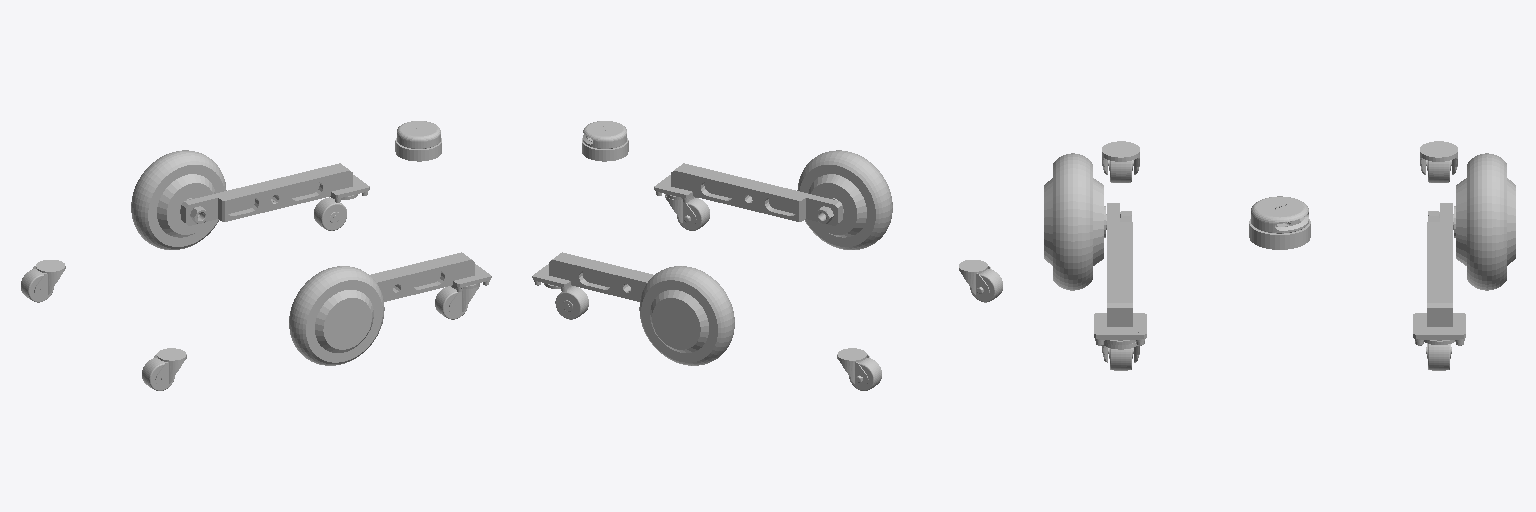
--- Facts derived from the render (not from the file) ---
3 views of the same robot in one strip: view 1: azimuth 30°, elevation 25°; view 2: azimuth 150°, elevation 25°; view 3: azimuth 270°, elevation 25° (orthographic).
Robot: aragorn — 30 links, 29 joints (12 continuous, 17 fixed); root link base_footprint; default pose: all joints at 0.
Links seen in each view (by area): view 1: right_wheel_link, left_wheel_link, left_swing_arm_link, right_swing_arm_link, front_lidar_mount_point_link, left_front_caster_wheel_link, right_rear_caster_arm_link, left_rear_caster_arm_link; view 2: left_wheel_link, right_wheel_link, right_swing_arm_link, left_swing_arm_link, front_lidar_mount_point_link, left_front_caster_wheel_link, left_rear_caster_arm_link, right_rear_caster_arm_link; view 3: right_wheel_link, left_wheel_link, left_swing_arm_link, right_swing_arm_link, front_lidar_mount_point_link, left_rear_caster_arm_link, right_rear_caster_arm_link, left_front_caster_wheel_link.
Link boxes in pixels (x1,y1,x2,y2): right_wheel_link: (289,266,384,365); left_wheel_link: (131,150,226,249); left_swing_arm_link: (181,163,369,225); right_swing_arm_link: (370,252,491,301); front_lidar_mount_point_link: (395,121,441,161); left_front_caster_wheel_link: (314,197,346,230); right_rear_caster_arm_link: (154,348,186,386); left_rear_caster_arm_link: (32,260,65,297); left_wheel_link: (639,266,734,365); right_wheel_link: (797,150,892,249); right_swing_arm_link: (654,163,842,225); left_swing_arm_link: (532,252,653,301); front_lidar_mount_point_link: (582,121,628,161); left_front_caster_wheel_link: (555,286,588,319); left_rear_caster_arm_link: (837,348,869,386); right_rear_caster_arm_link: (959,260,991,297); right_wheel_link: (1044,153,1106,290); left_wheel_link: (1453,153,1515,290); left_swing_arm_link: (1413,203,1465,345); right_swing_arm_link: (1094,203,1146,345); front_lidar_mount_point_link: (1249,196,1310,249); left_rear_caster_arm_link: (1420,141,1457,174); right_rear_caster_arm_link: (1102,141,1139,174); left_front_caster_wheel_link: (1426,343,1451,370).
Size in the robot's own frame: 0.664 by 0.5824 by 0.2462 metres.
Meshes: 16 distinct files referenced, 12 mesh visuals loaded (12 binary STL); not drawn: 4 (reference not matched to a file when rendering).

URDF robot description (aragorn):
<?xml version="1.0" encoding="utf-8"?>
<!-- This URDF was automatically created by SolidWorks to URDF Exporter! Originally created by Stephen Brawner ([email redacted]) 
     Commit Version: 1.5.1-0-g916b5db  Build Version: 1.5.7152.31018
     For more information, please see http://wiki.ros.org/sw_urdf_exporter -->
<robot
  name="aragorn">

  <link name="base_footprint"/>
  <joint 
    name="base_footprint_to_base_link"
    type="fixed">
    <origin
      xyz="0 0 0.215"
      rpy="0 0 0" />
    <parent
      link="base_footprint" />
    <child
      link="base_link" />
    <axis
      xyz="0 0 1" />
  </joint> 

  <link
    name="base_link">
    <inertial>
      <origin
        xyz="-0.0403486248167869 -0.00918270719266345 0.316228196862835"
        rpy="0 0 0" />
      <mass
        value="219.993847036208" />
      <inertia
        ixx="41.6754828034538"
        ixy="-0.106413065258627"
        ixz="0.782685250341636"
        iyy="44.078983843434"
        iyz="-0.430942657277407"
        izz="7.63679261790245" />
    </inertial>
    <visual>
      <origin
        xyz="0 0 0"
        rpy="0 0 0" />
      <geometry>
        <mesh
          filename="package://aragorn_description/meshes/base_link.STL" />
      </geometry>
      <material
        name="">
        <color
          rgba="0.752941176470588 0.752941176470588 0.752941176470588 1" />
      </material>
    </visual>
    <collision>
      <origin
        xyz="0 0 0"
        rpy="0 0 0" />
      <geometry>
        <mesh
          filename="package://aragorn_description/meshes/base_link.STL" />
      </geometry>
    </collision>
  </link>
  <link
    name="left_swing_arm_link">
    <inertial>
      <origin
        xyz="0.0252820538711716 0.00177826971235748 -0.00249608151068294"
        rpy="0 0 0" />
      <mass
        value="2.34993446567487" />
      <inertia
        ixx="0.000656645614070494"
        ixy="0.000273388479641494"
        ixz="0.000674668619874366"
        iyy="0.0204702821567476"
        iyz="-4.55577159440825E-06"
        izz="0.0203400621395775" />
    </inertial>
    <visual>
      <origin
        xyz="0 0 0"
        rpy="0 0 0" />
      <geometry>
        <mesh
          filename="package://aragorn_description/meshes/left_swing_arm_link.STL" />
      </geometry>
      <material
        name="">
        <color
          rgba="0.752941176470588 0.752941176470588 0.752941176470588 1" />
      </material>
    </visual>
    <collision>
      <origin
        xyz="0 0 0"
        rpy="0 0 0" />
      <geometry>
        <mesh
          filename="package://aragorn_description/meshes/left_swing_arm_link.STL" />
      </geometry>
    </collision>
  </link>
  <joint
    name="left_swing_arm_joint"
    type="continuous">
    <origin
      xyz="0.136 0.1965 -0.14"
      rpy="0 0 0" />
    <parent
      link="base_link" />
    <child
      link="left_swing_arm_link" />
    <axis
      xyz="0 -1 0" />
  </joint>
  <link
    name="left_front_caster_arm_link">
    <inertial>
      <origin
        xyz="-0.0101764304807791 0.00103684809935464 -0.0266675630329053"
        rpy="0 0 0" />
      <mass
        value="0.0777788083339595" />
      <inertia
        ixx="3.52149915361053E-05"
        ixy="1.19534124059409E-06"
        ixz="-1.11237681502021E-05"
        iyy="3.25584920114246E-05"
        iyz="1.3170154061756E-06"
        izz="3.94012265015794E-05" />
    </inertial>
    <visual>
      <origin
        xyz="0 0 0"
        rpy="0 0 0" />
      <geometry>
        <mesh
          filename="package://aragorn_description/meshes/left_front_caster_arm_link.STL" />
      </geometry>
      <material
        name="">
        <color
          rgba="0.792156862745098 0.792156862745098 0.792156862745098 1" />
      </material>
    </visual>
    <collision>
      <origin
        xyz="0 0 0"
        rpy="0 0 0" />
      <geometry>
        <mesh
          filename="package://aragorn_description/meshes/left_front_caster_arm_link.STL" />
      </geometry>
    </collision>
  </link>
  <joint
    name="left_front_caster_arm_joint"
    type="continuous">
    <origin
      xyz="0.136999999999996 0 -0.0160000000000024"
      rpy="0 0 0" />
    <parent
      link="left_swing_arm_link" />
    <child
      link="left_front_caster_arm_link" />
    <axis
      xyz="0 0 1" />
    <limit
      effort="100000"
      velocity="1000" />
  </joint>
  <link
    name="left_front_caster_wheel_link">
    <inertial>
      <origin
        xyz="-8.17745908210377E-08 -3.33066907387547E-16 1.73472347597681E-17"
        rpy="0 0 0" />
      <mass
        value="0.426543248356679" />
      <inertia
        ixx="9.23799595784937E-05"
        ixy="3.11145489690233E-20"
        ixz="-3.25250886123016E-20"
        iyy="0.00012870095566462"
        iyz="-1.2548365939659E-10"
        izz="9.23855105540948E-05" />
    </inertial>
    <visual>
      <origin
        xyz="0 0 0"
        rpy="0 0 0" />
      <geometry>
        <mesh
          filename="package://aragorn_description/meshes/left_front_caster_wheel_link.STL" />
      </geometry>
      <material
        name="">
        <color
          rgba="0.792156862745098 0.792156862745098 0.792156862745098 1" />
      </material>
    </visual>
    <collision>
      <origin
        xyz="0 0 0"
        rpy="0 0 0" />
      <geometry>
        <mesh
          filename="package://aragorn_description/meshes/left_front_caster_wheel_link.STL" />
      </geometry>
    </collision>
  </link>
  <joint
    name="left_front_caster_wheel_joint"
    type="continuous">
    <origin
      xyz="-0.0249999999999989 0 -0.0429999999999974"
      rpy="0 0 0" />
    <parent
      link="left_front_caster_arm_link" />
    <child
      link="left_front_caster_wheel_link" />
    <axis
      xyz="0 -1 0" />
  </joint>
  <link
    name="left_wheel_link">
    <inertial>
      <origin
        xyz="-1.73472347597681E-18 -0.000962802918484051 0"
        rpy="0 0 0" />
      <mass
        value="9.55808535243556" />
      <inertia
        ixx="0.0172238206025619"
        ixy="-3.98159536913938E-19"
        ixz="-1.35063020093918E-18"
        iyy="0.0285095245192058"
        iyz="3.33100181770154E-20"
        izz="0.0172238206025619" />
    </inertial>
    <visual>
      <origin
        xyz="0 0 0"
        rpy="0 0 0" />
      <geometry>
        <mesh
          filename="package://aragorn_description/meshes/left_wheel_link.STL" />
      </geometry>
      <material
        name="">
        <color
          rgba="0.792156862745098 0.792156862745098 0.792156862745098 1" />
      </material>
    </visual>
    <collision>
      <origin
        xyz="0 0 0"
        rpy="0 0 0" />
      <geometry>
        <mesh
          filename="package://aragorn_description/meshes/left_wheel_link.STL" />
      </geometry>
    </collision>
  </link>
  <joint
    name="left_wheel_joint"
    type="continuous">
    <origin
      xyz="-0.137500000000002 0.0596000000000001 0"
      rpy="0 0 0" />
    <parent
      link="left_swing_arm_link" />
    <child
      link="left_wheel_link" />
    <axis
      xyz="0 1 0" />
  </joint>
  <link
    name="left_rear_caster_arm_link">
    <inertial>
      <origin
        xyz="-0.0101764304807791 0.00103684809935445 -0.0266675630329053"
        rpy="0 0 0" />
      <mass
        value="0.0777788083339599" />
      <inertia
        ixx="3.52149915361054E-05"
        ixy="1.19534124059411E-06"
        ixz="-1.11237681502021E-05"
        iyy="3.25584920114245E-05"
        iyz="1.31701540617563E-06"
        izz="3.94012265015795E-05" />
    </inertial>
    <visual>
      <origin
        xyz="0 0 0"
        rpy="0 0 0" />
      <geometry>
        <mesh
          filename="package://aragorn_description/meshes/left_rear_caster_arm_link.STL" />
      </geometry>
      <material
        name="">
        <color
          rgba="0.792156862745098 0.792156862745098 0.792156862745098 1" />
      </material>
    </visual>
    <collision>
      <origin
        xyz="0 0 0"
        rpy="0 0 0" />
      <geometry>
        <mesh
          filename="package://aragorn_description/meshes/left_rear_caster_arm_link.STL" />
      </geometry>
    </collision>
  </link>
  <joint
    name="left_rear_caster_arm_joint"
    type="continuous">
    <origin
      xyz="-0.276 0.1965 -0.156"
      rpy="0 0 0" />
    <parent
      link="base_link" />
    <child
      link="left_rear_caster_arm_link" />
    <axis
      xyz="0 0 1" />
    <limit
      effort="100000"
      velocity="1000" />
  </joint>
  <link
    name="left_rear_caster_wheel_link">
    <inertial>
      <origin
        xyz="8.17745907655265E-08 1.11022302462516E-16 1.04083408558608E-17"
        rpy="0 0 0" />
      <mass
        value="0.426543248356681" />
      <inertia
        ixx="9.237995957848E-05"
        ixy="1.98228295150495E-20"
        ixz="2.46982996889143E-20"
        iyy="0.000128700955664593"
        iyz="1.25483659469682E-10"
        izz="9.23855105540812E-05" />
    </inertial>
    <visual>
      <origin
        xyz="0 0 0"
        rpy="0 0 0" />
      <geometry>
        <mesh
          filename="package://aragorn_description/meshes/left_rear_caster_wheel_link.STL" />
      </geometry>
      <material
        name="">
        <color
          rgba="0.792156862745098 0.792156862745098 0.792156862745098 1" />
      </material>
    </visual>
    <collision>
      <origin
        xyz="0 0 0"
        rpy="0 0 0" />
      <geometry>
        <mesh
          filename="package://aragorn_description/meshes/left_rear_caster_wheel_link.STL" />
      </geometry>
    </collision>
  </link>
  <joint
    name="left_rear_caster_wheel_joint"
    type="continuous">
    <origin
      xyz="-0.025 0 -0.043"
      rpy="0 0 0" />
    <parent
      link="left_rear_caster_arm_link" />
    <child
      link="left_rear_caster_wheel_link" />
    <axis
      xyz="0 1 0" />
  </joint>
  <link
    name="right_swing_arm_link">
    <inertial>
      <origin
        xyz="0.0252577773571477 0.00250575410925884 -0.0332771351931779"
        rpy="0 0 0" />
      <mass
        value="2.3521930746689" />
      <inertia
        ixx="0.00065716338841482"
        ixy="-0.000674093946357969"
        ixz="-0.000273445794447136"
        iyy="0.0203417544787147"
        iyz="-4.58971740988904E-06"
        izz="0.020472002126438" />
    </inertial>
    <visual>
      <origin
        xyz="0 0 0"
        rpy="0 0 0" />
      <geometry>
        <mesh
          filename="package://aragorn_description/meshes/right_swing_arm_link.STL" />
      </geometry>
      <material
        name="">
        <color
          rgba="0.752941176470588 0.752941176470588 0.752941176470588 1" />
      </material>
    </visual>
    <collision>
      <origin
        xyz="0 0 0"
        rpy="0 0 0" />
      <geometry>
        <mesh
          filename="package://aragorn_description/meshes/right_swing_arm_link.STL" />
      </geometry>
    </collision>
  </link>
  <joint
    name="right_swing_arm_joint"
    type="continuous">
    <origin
      xyz="0.135999999999999 -0.164999999999855 -0.14"
      rpy="-1.5707963267949 0 0" />
    <parent
      link="base_link" />
    <child
      link="right_swing_arm_link" />
    <axis
      xyz="0 0 1" />
  </joint>
  <link
    name="right_front_caster_arm_link">
    <inertial>
      <origin
        xyz="-0.0101764304807792 0.00103684809935475 -0.0266675630329053"
        rpy="0 0 0" />
      <mass
        value="0.0777788083339588" />
      <inertia
        ixx="3.52149915361052E-05"
        ixy="1.19534124059405E-06"
        ixz="-1.11237681502021E-05"
        iyy="3.25584920114245E-05"
        iyz="1.31701540617562E-06"
        izz="3.94012265015793E-05" />
    </inertial>
    <visual>
      <origin
        xyz="0 0 0"
        rpy="0 0 0" />
      <geometry>
        <mesh
          filename="package://aragorn_description/meshes/right_front_caster_arm_link.STL" />
      </geometry>
      <material
        name="">
        <color
          rgba="0.792156862745098 0.792156862745098 0.792156862745098 1" />
      </material>
    </visual>
    <collision>
      <origin
        xyz="0 0 0"
        rpy="0 0 0" />
      <geometry>
        <mesh
          filename="package://aragorn_description/meshes/right_front_caster_arm_link.STL" />
      </geometry>
    </collision>
  </link>
  <joint
    name="right_front_caster_arm_joint"
    type="continuous">
    <origin
      xyz="0.137000000000001 0.016 -0.0315000000001454"
      rpy="1.5707963267949 0 0" />
    <parent
      link="right_swing_arm_link" />
    <child
      link="right_front_caster_arm_link" />
    <axis
      xyz="0 0 1" />
    <limit
      effort="100000"
      velocity="1000" />
  </joint>
  <link
    name="right_front_caster_wheel_link">
    <inertial>
      <origin
        xyz="-8.17745907932821E-08 -3.05311331771918E-16 3.46944695195361E-18"
        rpy="0 0 0" />
      <mass
        value="0.42654324835668" />
      <inertia
        ixx="9.2379959578494E-05"
        ixy="2.1637551675201E-20"
        ixz="-2.56171294338236E-20"
        iyy="0.000128700955664621"
        iyz="-1.25483659404144E-10"
        izz="9.23855105540952E-05" />
    </inertial>
    <visual>
      <origin
        xyz="0 0 0"
        rpy="0 0 0" />
      <geometry>
        <mesh
          filename="package://aragorn_description/meshes/right_front_caster_wheel_link.STL" />
      </geometry>
      <material
        name="">
        <color
          rgba="0.792156862745098 0.792156862745098 0.792156862745098 1" />
      </material>
    </visual>
    <collision>
      <origin
        xyz="0 0 0"
        rpy="0 0 0" />
      <geometry>
        <mesh
          filename="package://aragorn_description/meshes/right_front_caster_wheel_link.STL" />
      </geometry>
    </collision>
  </link>
  <joint
    name="right_front_caster_wheel_joint"
    type="continuous">
    <origin
      xyz="-0.0250000000000017 0 -0.0429999999999972"
      rpy="0 0 0" />
    <parent
      link="right_front_caster_arm_link" />
    <child
      link="right_front_caster_wheel_link" />
    <axis
      xyz="0 -1 0" />
  </joint>
  <link
    name="right_wheel_link">
    <inertial>
      <origin
        xyz="-2.38524477946811E-18 0.00096280291848394 -1.38777878078145E-17"
        rpy="0 0 0" />
      <mass
        value="9.55808535243556" />
      <inertia
        ixx="0.0172238206025619"
        ixy="1.58327136905796E-19"
        ixz="3.39376522032136E-19"
        iyy="0.0285095245192058"
        iyz="1.46985395920989E-19"
        izz="0.0172238206025619" />
    </inertial>
    <visual>
      <origin
        xyz="0 0 0"
        rpy="0 0 0" />
      <geometry>
        <mesh
          filename="package://aragorn_description/meshes/right_wheel_link.STL" />
      </geometry>
      <material
        name="">
        <color
          rgba="0.792156862745098 0.792156862745098 0.792156862745098 1" />
      </material>
    </visual>
    <collision>
      <origin
        xyz="0 0 0"
        rpy="0 0 0" />
      <geometry>
        <mesh
          filename="package://aragorn_description/meshes/right_wheel_link.STL" />
      </geometry>
    </collision>
  </link>
  <joint
    name="right_wheel_joint"
    type="continuous">
    <origin
      xyz="-0.1375 0 -0.0911000000001454"
      rpy="1.5707963267949 0 0" />
    <parent
      link="right_swing_arm_link" />
    <child
      link="right_wheel_link" />
    <axis
      xyz="0 1 0" />
  </joint>
  <link
    name="right_rear_caster_arm_link">
    <inertial>
      <origin
        xyz="-0.0101764304807792 0.00103684809935448 -0.0266675630329053"
        rpy="0 0 0" />
      <mass
        value="0.0777788083339599" />
      <inertia
        ixx="3.52149915361053E-05"
        ixy="1.19534124059416E-06"
        ixz="-1.11237681502021E-05"
        iyy="3.25584920114245E-05"
        iyz="1.31701540617562E-06"
        izz="3.94012265015795E-05" />
    </inertial>
    <visual>
      <origin
        xyz="0 0 0"
        rpy="0 0 0" />
      <geometry>
        <mesh
          filename="package://aragorn_description/meshes/right_rear_caster_arm_link.STL" />
      </geometry>
      <material
        name="red">
        <color
          rgba="0.792156862745098 0.792156862745098 0.792156862745098 1" />
      </material>
    </visual>
    <collision>
      <origin
        xyz="0 0 0"
        rpy="0 0 0" />
      <geometry>
        <mesh
          filename="package://aragorn_description/meshes/right_rear_caster_arm_link.STL" />
      </geometry>
    </collision>
  </link>
  <joint
    name="right_rear_caster_arm_joint"
    type="continuous">
    <origin
      xyz="-0.276 -0.1965 -0.156"
      rpy="0 0 0" />
    <parent
      link="base_link" />
    <child
      link="right_rear_caster_arm_link" />
    <axis
      xyz="0 0 1" />
    <limit
      effort="100000"
      velocity="1000" />
  </joint>
  <link
    name="right_rear_caster_wheel_link">
    <inertial>
      <origin
        xyz="-8.17745907655265E-08 -4.44089209850063E-16 -2.42861286636753E-17"
        rpy="0 0 0" />
      <mass
        value="0.426543248356681" />
      <inertia
        ixx="9.23799595784982E-05"
        ixy="-5.10774118716882E-21"
        ixz="-2.95035227706681E-20"
        iyy="0.000128700955664626"
        iyz="-1.2548365982896E-10"
        izz="9.23855105540994E-05" />
    </inertial>
    <visual>
      <origin
        xyz="0 0 0"
        rpy="0 0 0" />
      <geometry>
        <mesh
          filename="package://aragorn_description/meshes/right_rear_caster_wheel_link.STL" />
      </geometry>
      <material
        name="">
        <color
          rgba="0.792156862745098 0.792156862745098 0.792156862745098 1" />
      </material>
    </visual>
    <collision>
      <origin
        xyz="0 0 0"
        rpy="0 0 0" />
      <geometry>
        <mesh
          filename="package://aragorn_description/meshes/right_rear_caster_wheel_link.STL" />
      </geometry>
    </collision>
  </link>
  <joint
    name="right_rear_caster_wheel_joint"
    type="continuous">
    <origin
      xyz="-0.0250000000000017 0 -0.0430000000000034"
      rpy="0 0 0" />
    <parent
      link="right_rear_caster_arm_link" />
    <child
      link="right_rear_caster_wheel_link" />
    <axis
      xyz="0 -1 0" />
  </joint>
  <link
    name="front_lidar_mount_point_link">
    <inertial>
      <origin
        xyz="-0.000494072444837901 -0.000402434458443346 0.0194819853221781"
        rpy="0 0 0" />
      <mass
        value="1.31125166858489" />
      <inertia
        ixx="0.000628704433687881"
        ixy="8.290475363551E-06"
        ixz="7.43194940276994E-06"
        iyy="0.000625289700870527"
        iyz="6.05314182595885E-06"
        izz="0.000886050760133868" />
    </inertial>
    <visual>
      <origin
        xyz="0 0 0"
        rpy="0 0 0" />
      <geometry>
        <mesh
          filename="package://aragorn_description/meshes/front_lidar_mount_point_link.STL" />
      </geometry>
      <material
        name="">
        <color
          rgba="0.792156862745098 0.792156862745098 0.792156862745098 1" />
      </material>
    </visual>
    <collision>
      <origin
        xyz="0 0 0"
        rpy="0 0 0" />
      <geometry>
        <mesh
          filename="package://aragorn_description/meshes/front_lidar_mount_point_link.STL" />
      </geometry>
    </collision>
  </link>
  <joint
    name="front_lidar_mount_point_joint"
    type="fixed">
    <origin
      xyz="0.3 0 -0.0198"
      rpy="0 0 0" />
    <parent
      link="base_link" />
    <child
      link="front_lidar_mount_point_link" />
    <axis
      xyz="0 0 0" />
  </joint>
  <link
    name="front_depth_cam_link">
    <inertial>
      <origin
        xyz="-0.014017564484296 0.00275959923000608 2.06545004441949E-05"
        rpy="0 0 0" />
      <mass
        value="0.267031423454358" />
      <inertia
        ixx="0.000177634634455598"
        ixy="-6.78475808866593E-07"
        ixz="6.58752370419804E-08"
        iyy="2.66461581525618E-05"
        iyz="1.03679909676601E-07"
        izz="0.000177829735950425" />
    </inertial>
    <visual>
      <origin
        xyz="0 0 0"
        rpy="0 0 0" />
      <geometry>
        <mesh
          filename="package://aragorn_description/meshes/front_depth_cam_link.STL" />
      </geometry>
      <material
        name="">
        <color
          rgba="0.792156862745098 0.792156862745098 0.792156862745098 1" />
      </material>
    </visual>
    <collision>
      <origin
        xyz="0 0 0"
        rpy="0 0 0" />
      <geometry>
        <mesh
          filename="package://aragorn_description/meshes/front_depth_cam_link.STL" />
      </geometry>
    </collision>
  </link>
  <joint
    name="front_depth_cam_joint"
    type="fixed">
    <origin
      xyz="0.393881187506735 0 0.0739999999999997"
      rpy="0 0 0" />
    <parent
      link="base_link" />
    <child
      link="front_depth_cam_link" />
    <axis
      xyz="0 0 0" />
  </joint>
  <link
    name="rear_depth_cam_link">
    <inertial>
      <origin
        xyz="-0.0140175644843305 0.00275959922988988 2.06545004438619E-05"
        rpy="0 0 0" />
      <mass
        value="0.267031423453322" />
      <inertia
        ixx="0.000177634634454661"
        ixy="-6.78475808589883E-07"
        ixz="6.5875237043186E-08"
        iyy="2.66461581524812E-05"
        iyz="1.03679909676012E-07"
        izz="0.000177829735949408" />
    </inertial>
    <visual>
      <origin
        xyz="0 0 0"
        rpy="0 0 0" />
      <geometry>
        <mesh
          filename="package://aragorn_description/meshes/rear_depth_cam_link.STL" />
      </geometry>
      <material
        name="">
        <color
          rgba="0.792156862745098 0.792156862745098 0.792156862745098 1" />
      </material>
    </visual>
    <collision>
      <origin
        xyz="0 0 0"
        rpy="0 0 0" />
      <geometry>
        <mesh
          filename="package://aragorn_description/meshes/rear_depth_cam_link.STL" />
      </geometry>
    </collision>
  </link>
  <joint
    name="rear_depth_cam_joint"
    type="fixed">
    <origin
      xyz="-0.37 0 0.074"
      rpy="0 0 -3.14159265358979" />
    <parent
      link="base_link" />
    <child
      link="rear_depth_cam_link" />
    <axis
      xyz="0 0 0" />
  </joint>

  <gazebo reference="right_wheel_link">
    <mu1>1.0</mu1>
    <mu2>1.0</mu2>
    <kp>1000000.0</kp> 
    <kd>100.0</kd>
    <minDepth>0.001</minDepth>
    <maxVel>1.0</maxVel>
    <selfCollide>true</selfCollide>
    <material>Gazebo/Grey</material>
  </gazebo>
  <gazebo reference="left_wheel_link">
    <mu1>1.0</mu1>
    <mu2>1.0</mu2>
    <kp>1000000.0</kp> 
    <kd>100.0</kd>
    <minDepth>0.001</minDepth>
    <maxVel>1.0</maxVel>
    <selfCollide>true</selfCollide>
    <material>Gazebo/Grey</material>
  </gazebo>
  <gazebo reference="left_rear_caster_wheel_link">
    <mu1>0.5</mu1>
    <mu2>0.5</mu2>
    <kp>1000000.0</kp> 
    <kd>100.0</kd>
    <minDepth>0.001</minDepth>
    <maxVel>1.0</maxVel>
    <selfCollide>true</selfCollide>
    <material>Gazebo/Grey</material>
  </gazebo>
  <gazebo reference="left_front_caster_wheel_link">
    <mu1>0.5</mu1>
    <mu2>0.5</mu2>
    <kp>1000000.0</kp> 
    <kd>100.0</kd>
    <minDepth>0.001</minDepth>
    <maxVel>1.0</maxVel>
    <selfCollide>true</selfCollide>
    <material>Gazebo/Grey</material>
  </gazebo>
  <gazebo reference="right_rear_caster_wheel_link">
    <mu1>0.5</mu1>
    <mu2>0.5</mu2>
    <kp>1000000.0</kp> 
    <kd>100.0</kd>
    <minDepth>0.001</minDepth>
    <maxVel>1.0</maxVel>
    <selfCollide>true</selfCollide>
    <material>Gazebo/Grey</material>
  </gazebo>
  <gazebo reference="right_front_caster_wheel_link">
    <mu1>0.5</mu1>
    <mu2>0.5S</mu2>
    <kp>1000000.0</kp> 
    <kd>100.0</kd>
    <minDepth>0.001</minDepth>
    <maxVel>1.0</maxVel>
    <selfCollide>true</selfCollide>
    <material>Gazebo/Grey</material>
  </gazebo>

  <!-- Add the differential_drive_controller -->
  <!--<gazebo>
    <plugin name="differential_drive_controller" filename="libgazebo_ros_diff_drive.so">
        <rosDebugLevel>Debug</rosDebugLevel>
        <legacyMode>false</legacyMode>
        <publishWheelTF>true</publishWheelTF>
        <publishTf>50</publishTf>
        <publishOdom>50</publishOdom>
        <publishWheelJointState>true</publishWheelJointState>
        <alwaysOn>true</alwaysOn>
        <leftJoint>left_wheel_joint</leftJoint>
        <rightJoint>right_wheel_joint</rightJoint>
        <wheelSeparation>0.393</wheelSeparation>
        <wheelDiameter>0.17</wheelDiameter>
        <wheelTorque>100</wheelTorque>
        <wheelAcceleration>1.8</wheelAcceleration>
        <commandTopic>/cmd_vel</commandTopic>
        <odometryTopic>/odom</odometryTopic>
        <odometryFrame>/odom</odometryFrame>
        <publishOdomTF>true</publishOdomTF>
        <odometrySource>world</odometrySource>
        <publishOdom>true</publishOdom>
        <robotBaseFrame>base_footprint</robotBaseFrame>
        <updateRate>50.0</updateRate>
    </plugin>
  </gazebo>-->

 <gazebo>
    <plugin name="differential_drive_controller" filename="libgazebo_ros_diff_drive.so">
        <updateRate>50.0</updateRate>
        <leftJoint>left_wheel_joint</leftJoint>
        <rightJoint>right_wheel_joint</rightJoint>
        <wheelSeparation>0.393</wheelSeparation>
        <wheelDiameter>0.17</wheelDiameter>
        <wheelAcceleration>1.8</wheelAcceleration>
        <wheelTorque>100</wheelTorque>
        <commandTopic>cmd_vel</commandTopic>
        <odometryTopic>odom</odometryTopic>
        <odometryFrame>odom</odometryFrame>
        <robotBaseFrame>base_footprint</robotBaseFrame>
        <odometrySource>1</odometrySource>
        <publishWheelTF>true</publishWheelTF>
        <publishOdom>true</publishOdom>
        <publishWheelJointState>true</publishWheelJointState>
        <legacyMode>false</legacyMode>
    </plugin>
  </gazebo>







  <gazebo>
    <plugin filename="libgazebo_ros_joint_state_publisher.so" name="joint_state_publisher">
      <jointName>right_wheel_joint, left_wheel_joint</jointName>
      <updateRate>10.0</updateRate>
      <alwaysOn>true</alwaysOn>
    </plugin>
  </gazebo>

  <link name="laser" />

  <joint name="lidar_mount_to_laser" type="fixed">
    <parent link="front_lidar_mount_point_link"/>
    <child link="laser"/>
    <origin rpy="0 0 0" xyz="0 0 0.0325"/>
  </joint>

  <!-- Add hokuyo -->
  <gazebo reference="laser">
    <sensor type="gpu_ray" name="head_hokuyo_sensor">
      <pose>0 0 0 0 0 0</pose>
      <visualize>true</visualize>
      <update_rate>40</update_rate>
      <ray>
        <scan>
          <horizontal>
            <samples>720</samples>
            <resolution>1</resolution>
            <!-- 120 degrees -->
            <min_angle>-2.0944</min_angle>
            <max_angle>2.0944</max_angle>
          </horizontal>
        </scan>
        <range>
          <min>0.05</min>
          <max>20</max>
          <resolution>0.01</resolution>
        </range>
        <noise>
          <type>gaussian</type>
          <!-- Noise parameters based on published spec for Hokuyo laser
               achieving "+-30mm" accuracy at range < 10m.  A mean of 0.0m and
               stddev of 0.01m will put 99.7% of samples within 0.03m of the true
               reading. -->
          <mean>0.0</mean>
          <stddev>0.01</stddev>
        </noise>
      </ray>
      <plugin name="gazebo_ros_base_hokuyo_controller" filename="libgazebo_ros_gpu_laser.so">
        <gaussianNoise>0.005</gaussianNoise>
        <topicName>scan</topicName>
        <frameName>laser</frameName>
      </plugin>
    </sensor>
  </gazebo>  

  <!-- Add Front Kinect -->
  <link name="front_kinect_link">
    <inertial>
      <mass value="0.001"/>
      <origin xyz="0 0 0"/>
      <inertia ixx="0.000001" ixy="0.0" ixz="0.0" iyy="0.000001" iyz="0.0" izz="0.000001"/>
    </inertial>
  </link>

  <joint name="front_kinect_joint" type="fixed">
    <parent link="front_depth_cam_link"/>
    <child link="front_kinect_link"/>
    <origin xyz="0.0 0.0 0.0" rpy="0.0 0.0 0.0"/>
  </joint>

  <link name="front_kinect_view_link">
    <inertial>
      <mass value="0.001"/>
      <origin xyz="0 0 0"/>
      <inertia ixx="0.000001" ixy="0.0" ixz="0.0" iyy="0.000001" iyz="0.0" izz="0.000001"/>
    </inertial>
  </link>

  <joint name="front_kinect_view_joint" type="fixed">
    <parent link="front_kinect_link"/>
    <child link="front_kinect_view_link"/>
    <origin xyz="0.0 0.0 0.0" rpy="-1.5708 0.0 -1.5708"/>
  </joint>

  <gazebo reference="front_kinect_link">
    <sensor type="depth" name="front_depth_camera">
      <pose>0 0 0 0 0 0</pose>
      <visualize>true</visualize>
      <update_rate>30.0</update_rate>
      <camera name="front_camera">
        <horizontal_fov>1.3962634</horizontal_fov>
        <image>
          <width>800</width>
          <height>800</height>
          <format>R8G8B8</format>
        </image>
        <clip>
          <near>0.02</near>
          <far>300</far>
        </clip>
        <noise>
          <type>gaussian</type>
          <!-- Noise is sampled independently per pixel on each frame.
               That pixel's noise value is added to each of its color
               channels, which at that point lie in the range [0,1]. -->
          <mean>0.0</mean>
          <stddev>0.007</stddev>
        </noise>
      </camera>
      <plugin name="front_kinect_controller" filename="libgazebo_ros_openni_kinect.so">
        <baseline>0.2</baseline>
        <alwaysOn>true</alwaysOn>
        <updateRate>1.0</updateRate>
        <cameraName>front_depthcam_ir</cameraName>
        <imageTopicName>/front_depthcam/depth/image_raw</imageTopicName>
        <cameraInfoTopicName>/front_depthcam/depth/camera_info</cameraInfoTopicName>
        <depthImageTopicName>/front_depthcam/depth/image_raw</depthImageTopicName>
        <depthImageInfoTopicName>/front_depthcam/depth/camera_info</depthImageInfoTopicName>
        <depthImageCameraInfoTopicName>front_image_raw</depthImageCameraInfoTopicName>
        <pointCloudTopicName>/front_depthcam/depth/points</pointCloudTopicName>
        <frameName>front_kinect_view_link</frameName>
        <pointCloudCutoff>0.5</pointCloudCutoff>
        <distortionK1>0.0</distortionK1>
        <distortionK2>0.0</distortionK2>
        <distortionK3>0.0</distortionK3>
        <distortionT1>0.0</distortionT1>
        <distortionT2>0.0</distortionT2>
        <CxPrime>0</CxPrime>
        <Cx>0</Cx>
        <Cy>0</Cy>
        <focalLength>0</focalLength>
        <hackBaseline>0</hackBaseline>
      </plugin>
    </sensor>
  </gazebo>



 <joint name="imu_joint" type="fixed">
    <parent link="base_link"/>
    <child link="imu_link"/>
    <origin xyz="0.032 0 0.068" rpy="0 0 0"/>
  </joint>

  <link name="imu_link"/>

  <gazebo reference="imu_link">
    <sensor type="imu" name="imu">
      <always_on>true</always_on>
      <visualize>false</visualize>
    </sensor>
    <material>Gazebo/FlatBlack</material>
  </gazebo>

  <gazebo>
    <plugin name="imu_plugin" filename="libgazebo_ros_imu.so">
      <alwaysOn>true</alwaysOn>
      <bodyName>imu_link</bodyName>
      <frameName>imu_link</frameName>
      <topicName>imu</topicName>
      <serviceName>imu_service</serviceName>
      <gaussianNoise>0.0</gaussianNoise>
      <updateRate>200</updateRate>
      <imu>
        <noise>
          <type>gaussian</type>
          <rate>
            <mean>0.0</mean>
            <stddev>2e-4</stddev>
            <bias_mean>0.0000075</bias_mean>
            <bias_stddev>0.0000008</bias_stddev>
          </rate>
          <accel>
            <mean>0.0</mean>
            <stddev>1.7e-2</stddev>
            <bias_mean>0.1</bias_mean>
            <bias_stddev>0.001</bias_stddev>
          </accel>
        </noise>
      </imu>
    </plugin>
  </gazebo>



 <!--  Add ultrasonuc   Middle Left Fornt  -->

  <joint name="ir_middle_left_front_joint" type="fixed">
    <parent link="base_link"/>
    <child link="ir_middle_left_front_link"/>
    <origin xyz="0.35 -0.06 -0.13" rpy="0 0 0"/>
  </joint>

  <link name="ir_middle_left_front_link"/>

  <gazebo reference="ir_middle_left_front_link">        
   <sensor type="ray" name="ir_middle_left_front">
      <pose>0 0 0 0 0 0</pose>
      <visualize>true</visualize>
      <update_rate>50</update_rate>
      <ray>
         <scan>
            <horizontal>
               <samples>10</samples>
               <resolution>1</resolution> 
               <min_angle>-0.0349066</min_angle>
               <max_angle>0.0349066</max_angle>
            </horizontal>
            <vertical>
               <samples>10</samples>
               <resolution>1</resolution> 
               <min_angle>-0.0174533</min_angle>
               <max_angle>0.0174533</max_angle> 
            </vertical>
         </scan>
         <range>
            <min>0.01</min>
            <max>2</max>
            <resolution>0.02</resolution>
         </range>
      </ray>
      <plugin filename="libgazebo_ros_range.so" name="gazebo_ros_range">
         <gaussianNoise>0.005</gaussianNoise>
         <alwaysOn>true</alwaysOn>
         <updateRate>50</updateRate>
         <topicName>sensor/ir_middle_left_front</topicName>
         <frameName>ir_middle_left_front_link</frameName>
         <radiation>INFRARED</radiation>
         <fov>0.2967</fov>
      </plugin>
   </sensor>  
   </gazebo>

   <!--  Add ultrasonuc   Middle Right Fornt  -->

  <joint name="ir_middle_right_front_joint" type="fixed">
    <parent link="base_link"/>
    <child link="ir_middle_right_front_link"/>
    <origin xyz="0.35 0.06 -0.13" rpy="0 0 0"/>
  </joint>

  <link name="ir_middle_right_front_link"/>

  <gazebo reference="ir_middle_right_front_link">        
   <sensor type="ray" name="ir_middle_right_front">
      <pose>0 0 0 0 0 0</pose>
      <visualize>true</visualize>
      <update_rate>50</update_rate>
      <ray>
         <scan>
            <horizontal>
               <samples>10</samples>
               <resolution>1</resolution> 
               <min_angle>-0.0349066</min_angle>
               <max_angle>0.0349066</max_angle>
            </horizontal>
            <vertical>
               <samples>10</samples>
               <resolution>1</resolution> 
               <min_angle>-0.0174533</min_angle>
               <max_angle>0.0174533</max_angle> 
            </vertical>
         </scan>
         <range>
            <min>0.01</min>
            <max>2</max>
            <resolution>0.02</resolution>
         </range>
      </ray>
      <plugin filename="libgazebo_ros_range.so" name="gazebo_ros_range">
         <gaussianNoise>0.005</gaussianNoise>
         <alwaysOn>true</alwaysOn>
         <updateRate>50</updateRate>
         <topicName>sensor/ir_middle_right_front</topicName>
         <frameName>ir_middle_right_front_link</frameName>
         <radiation>INFRARED</radiation>
         <fov>0.2967</fov>
      </plugin>
   </sensor>  
   </gazebo>
  

  <!--  Add ultrasonuc   Left Fornt  -->

  <joint name="ir_left_front_joint" type="fixed">
    <parent link="base_link"/>
    <child link="ir_left_front_link"/>
    <origin xyz="0.35 0.18 -0.13" rpy="0 0 0"/>
  </joint>

  <link name="ir_left_front_link"/>

  <gazebo reference="ir_left_front_link">        
   <sensor type="ray" name="ir_left_front">
      <pose>0 0 0 0 0 0</pose>
      <visualize>true</visualize>
      <update_rate>50</update_rate>
      <ray>
         <scan>
            <horizontal>
               <samples>10</samples>
               <resolution>1</resolution> 
               <min_angle>-0.0349066</min_angle>
               <max_angle>0.0349066</max_angle>
            </horizontal>
            <vertical>
               <samples>10</samples>
               <resolution>1</resolution> 
               <min_angle>-0.0174533</min_angle>
               <max_angle>0.0174533</max_angle> 
            </vertical>
         </scan>
         <range>
            <min>0.01</min>
            <max>2</max>
            <resolution>0.02</resolution>
         </range>
      </ray>
      <plugin filename="libgazebo_ros_range.so" name="gazebo_ros_range">
         <gaussianNoise>0.005</gaussianNoise>
         <alwaysOn>true</alwaysOn>
         <updateRate>50</updateRate>
         <topicName>sensor/ir_left_front</topicName>
         <frameName>ir_left_front_link</frameName>
         <radiation>INFRARED</radiation>
         <fov>0.2967</fov>
      </plugin>
   </sensor>  
   </gazebo>



     <!--  Add ultrasonuc   Right Fornt  -->

  <joint name="ir_right_front_joint" type="fixed">
    <parent link="base_link"/>
    <child link="ir_right_front_link"/>
    <origin xyz="0.35 -0.18 -0.13" rpy="0 0 0"/>
  </joint>

  <link name="ir_right_front_link"/>

  <gazebo reference="ir_right_front_link">        
   <sensor type="ray" name="ir_right_front">
      <pose>0 0 0 0 0 0</pose>
      <visualize>true</visualize>
      <update_rate>50</update_rate>
      <ray>
         <scan>
            <horizontal>
               <samples>10</samples>
               <resolution>1</resolution> 
               <min_angle>-0.0349066</min_angle>
               <max_angle>0.0349066</max_angle>
            </horizontal>
            <vertical>
               <samples>10</samples>
               <resolution>1</resolution> 
               <min_angle>-0.0174533</min_angle>
               <max_angle>0.0174533</max_angle> 
            </vertical>
         </scan>
         <range>
            <min>0.01</min>
            <max>2</max>
            <resolution>0.02</resolution>
         </range>
      </ray>
      <plugin filename="libgazebo_ros_range.so" name="gazebo_ros_range">
         <gaussianNoise>0.005</gaussianNoise>
         <alwaysOn>true</alwaysOn>
         <updateRate>50</updateRate>
         <topicName>sensor/ir_right_front</topicName>
         <frameName>ir_right_front_link</frameName>
         <radiation>INFRARED</radiation>
         <fov>0.2967</fov>
      </plugin>
   </sensor>  
   </gazebo>


<!--  Add ultrasonuc   Right   -->

  <joint name="ir_right_joint" type="fixed">
    <parent link="base_link"/>
    <child link="ir_right_link"/>
    <origin xyz="0.21 -0.25 -0.13" rpy="0 0 -1.57"/>
  </joint>

  <link name="ir_right_link"/>

  <gazebo reference="ir_right_link">        
   <sensor type="ray" name="ir_right">
      <pose>0 0 0 0 0 0</pose>
      <visualize>true</visualize>
      <update_rate>50</update_rate>
      <ray>
         <scan>
            <horizontal>
               <samples>10</samples>
               <resolution>1</resolution> 
               <min_angle>-0.0349066</min_angle>
               <max_angle>0.0349066</max_angle>
            </horizontal>
            <vertical>
               <samples>10</samples>
               <resolution>1</resolution> 
               <min_angle>-0.0174533</min_angle>
               <max_angle>0.0174533</max_angle> 
            </vertical>
         </scan>
         <range>
            <min>0.01</min>
            <max>2</max>
            <resolution>0.02</resolution>
         </range>
      </ray>
      <plugin filename="libgazebo_ros_range.so" name="gazebo_ros_range">
         <gaussianNoise>0.005</gaussianNoise>
         <alwaysOn>true</alwaysOn>
         <updateRate>50</updateRate>
         <topicName>sensor/ir_right</topicName>
         <frameName>ir_right_link</frameName>
         <radiation>INFRARED</radiation>
         <fov>0.2967</fov>
      </plugin>
   </sensor>  
   </gazebo>



  <!--  Add ultrasonuc   Left   -->

  <joint name="ir_left_joint" type="fixed">
    <parent link="base_link"/>
    <child link="ir_left_link"/>
    <origin xyz="0.21 0.25 -0.13" rpy="0 0 1.57"/>
  </joint>

  <link name="ir_left_link"/>

  <gazebo reference="ir_left_link">        
   <sensor type="ray" name="ir_left">
      <pose>0 0 0 0 0 0</pose>
      <visualize>true</visualize>
      <update_rate>50</update_rate>
      <ray>
         <scan>
            <horizontal>
               <samples>10</samples>
               <resolution>1</resolution> 
               <min_angle>-0.0349066</min_angle>
               <max_angle>0.0349066</max_angle>
            </horizontal>
            <vertical>
               <samples>10</samples>
               <resolution>1</resolution> 
               <min_angle>-0.0174533</min_angle>
               <max_angle>0.0174533</max_angle> 
            </vertical>
         </scan>
         <range>
            <min>0.01</min>
            <max>2</max>
            <resolution>0.02</resolution>
         </range>
      </ray>
      <plugin filename="libgazebo_ros_range.so" name="gazebo_ros_range">
         <gaussianNoise>0.005</gaussianNoise>
         <alwaysOn>true</alwaysOn>
         <updateRate>50</updateRate>
         <topicName>sensor/ir_left</topicName>
         <frameName>ir_left_link</frameName>
         <radiation>INFRARED</radiation>
         <fov>0.2967</fov>
      </plugin>
   </sensor>  
   </gazebo>


   <!--  Add Cliff front   -->

  <joint name="cliff_front_joint" type="fixed">
    <parent link="base_link"/>
    <child link="cliff_front_link"/>
    <origin xyz="0.38 0.0 -0.075" rpy="0 1.5708 0"/>
  </joint>

  <link name="cliff_front_link"/>

  <gazebo reference="cliff_front_link">        
   <sensor type="ray" name="cliff_front">
      <pose>0 0 0 0 0 0</pose>
      <visualize>true</visualize>
      <update_rate>50</update_rate>
      <ray>
         <scan>
            <horizontal>
               <samples>10</samples>
               <resolution>1</resolution> 
               <min_angle>-0.0349066</min_angle>
               <max_angle>0.0349066</max_angle>
            </horizontal>
            <vertical>
               <samples>10</samples>
               <resolution>1</resolution> 
               <min_angle>-0.0174533</min_angle>
               <max_angle>0.0174533</max_angle> 
            </vertical>
         </scan>
         <range>
            <min>0.01</min>
            <max>2</max>
            <resolution>0.02</resolution>
         </range>
      </ray>
      <plugin filename="libgazebo_ros_range.so" name="gazebo_ros_range">
         <gaussianNoise>0.005</gaussianNoise>
         <alwaysOn>true</alwaysOn>
         <updateRate>50</updateRate>
         <topicName>sensor/cliff_front</topicName>
         <frameName>cliff_front_link</frameName>
         <radiation>INFRARED</radiation>
         <fov>0.2967</fov>
      </plugin>
   </sensor>  
   </gazebo>


   <!--  Add Cliff left   -->

  <joint name="cliff_left_joint" type="fixed">
    <parent link="base_link"/>
    <child link="cliff_left_link"/>
    <origin xyz="0.312 0.26 -0.075" rpy="0 1.5708 0"/>
  </joint>

  <link name="cliff_left_link"/>

  <gazebo reference="cliff_left_link">        
   <sensor type="ray" name="cliff_left">
      <pose>0 0 0 0 0 0</pose>
      <visualize>true</visualize>
      <update_rate>50</update_rate>
      <ray>
         <scan>
            <horizontal>
               <samples>10</samples>
               <resolution>1</resolution> 
               <min_angle>-0.0349066</min_angle>
               <max_angle>0.0349066</max_angle>
            </horizontal>
            <vertical>
               <samples>10</samples>
               <resolution>1</resolution> 
               <min_angle>-0.0174533</min_angle>
               <max_angle>0.0174533</max_angle> 
            </vertical>
         </scan>
         <range>
            <min>0.01</min>
            <max>2</max>
            <resolution>0.02</resolution>
         </range>
      </ray>
      <plugin filename="libgazebo_ros_range.so" name="gazebo_ros_range">
         <gaussianNoise>0.005</gaussianNoise>
         <alwaysOn>true</alwaysOn>
         <updateRate>50</updateRate>
         <topicName>sensor/cliff_left</topicName>
         <frameName>cliff_left_link</frameName>
         <radiation>INFRARED</radiation>
         <fov>0.2967</fov>
      </plugin>
   </sensor>  
   </gazebo>


   <!--  Add Cliff Right   -->

  <joint name="cliff_right_joint" type="fixed">
    <parent link="base_link"/>
    <child link="cliff_right_link"/>
    <origin xyz="0.312 -0.26 -0.075" rpy="0 1.5708 0"/>
  </joint>

  <link name="cliff_right_link"/>

  <gazebo reference="cliff_right_link">        
   <sensor type="ray" name="cliff_right">
      <pose>0 0 0 0 0 0</pose>
      <visualize>true</visualize>
      <update_rate>50</update_rate>
      <ray>
         <scan>
            <horizontal>
               <samples>10</samples>
               <resolution>1</resolution> 
               <min_angle>-0.0349066</min_angle>
               <max_angle>0.0349066</max_angle>
            </horizontal>
            <vertical>
               <samples>10</samples>
               <resolution>1</resolution> 
               <min_angle>-0.0174533</min_angle>
               <max_angle>0.0174533</max_angle> 
            </vertical>
         </scan>
         <range>
            <min>0.01</min>
            <max>2</max>
            <resolution>0.02</resolution>
         </range>
      </ray>
      <plugin filename="libgazebo_ros_range.so" name="gazebo_ros_range">
         <gaussianNoise>0.005</gaussianNoise>
         <alwaysOn>true</alwaysOn>
         <updateRate>50</updateRate>
         <topicName>sensor/cliff_right</topicName>
         <frameName>cliff_right_link</frameName>
         <radiation>INFRARED</radiation>
         <fov>0.2967</fov>
      </plugin>
   </sensor>  
   </gazebo>

</robot>
